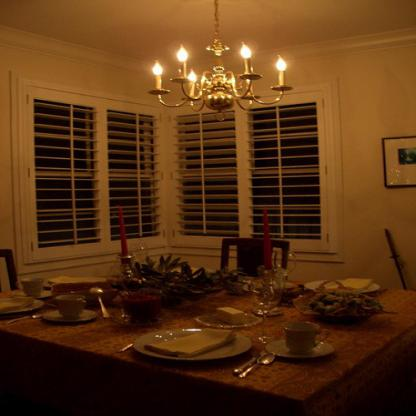chair: (215, 234, 302, 279)
diningtable: (3, 269, 415, 415)
